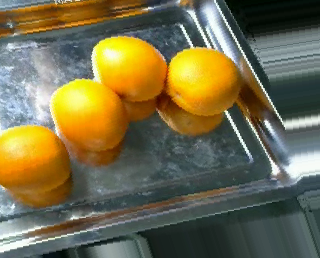Orange: (49, 77, 128, 151), (166, 46, 242, 116), (89, 35, 166, 102), (1, 124, 71, 196)
